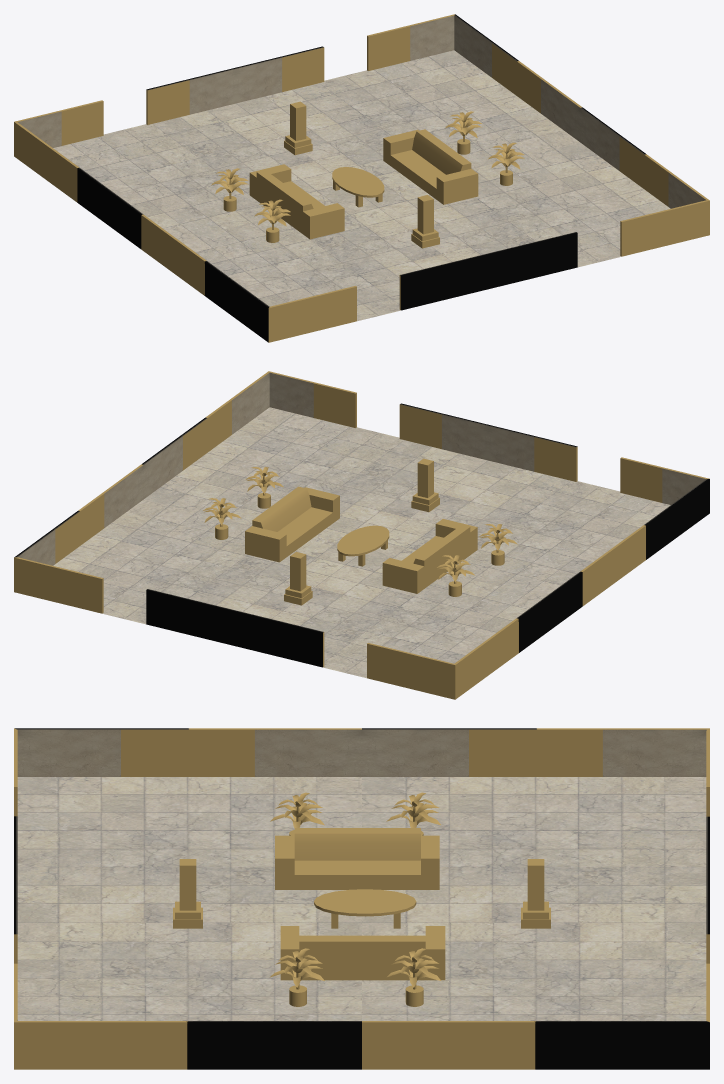
Rendered from Room_Custom02_Type01.fbx.
The picture shows the model from 3 angles, top to bottom: view 1: azimuth 30°, elevation 25°; view 2: azimuth 150°, elevation 25°; view 3: azimuth 270°, elevation 25°; orthographic projection. The views are drawn at different scales.
Parts seen in each view (by area): view 1: Room2x2_4Exits, Sofa4, Sofa, CoffeeTable1, Column18, Column17, Plant017, Plant016, Plant019, Plant018; view 2: Room2x2_4Exits, Sofa4, Sofa, CoffeeTable1, Column17, Column18, Plant017, Plant019, Plant018, Plant016; view 3: Room2x2_4Exits, Sofa, Sofa4, CoffeeTable1, Column17, Column18, Plant018, Plant019, Plant016, Plant017.
Boxes of the visible parts, left/top/right/bottom form: Room2x2_4Exits: left=14, top=14, right=709, bottom=342; Sofa4: left=383, top=129, right=478, bottom=204; Sofa: left=249, top=164, right=344, bottom=239; CoffeeTable1: left=332, top=167, right=384, bottom=207; Column18: left=284, top=101, right=312, bottom=155; Column17: left=411, top=195, right=439, bottom=248; Plant017: left=211, top=168, right=248, bottom=211; Plant016: left=254, top=199, right=290, bottom=242; Plant019: left=488, top=142, right=524, bottom=185; Plant018: left=445, top=111, right=482, bottom=154; Room2x2_4Exits: left=14, top=371, right=709, bottom=699; Sofa4: left=245, top=486, right=339, bottom=562; Sofa: left=382, top=519, right=477, bottom=593; CoffeeTable1: left=337, top=525, right=389, bottom=566; Column17: left=411, top=458, right=439, bottom=512; Column18: left=284, top=552, right=312, bottom=605; Plant017: left=437, top=555, right=474, bottom=596; Plant019: left=245, top=467, right=283, bottom=508; Plant018: left=203, top=498, right=241, bottom=539; Plant016: left=479, top=524, right=517, bottom=565; Room2x2_4Exits: left=14, top=728, right=709, bottom=1069; Sofa: left=275, top=828, right=439, bottom=889; Sofa4: left=280, top=926, right=445, bottom=980; CoffeeTable1: left=314, top=889, right=416, bottom=928; Column17: left=173, top=859, right=202, bottom=928; Column18: left=521, top=859, right=550, bottom=928; Plant018: left=387, top=948, right=440, bottom=1006; Plant019: left=270, top=948, right=324, bottom=1006; Plant016: left=270, top=792, right=324, bottom=835; Plant017: left=386, top=792, right=440, bottom=835.
Size of the model in its own units: 20 by 1.96 by 20.
